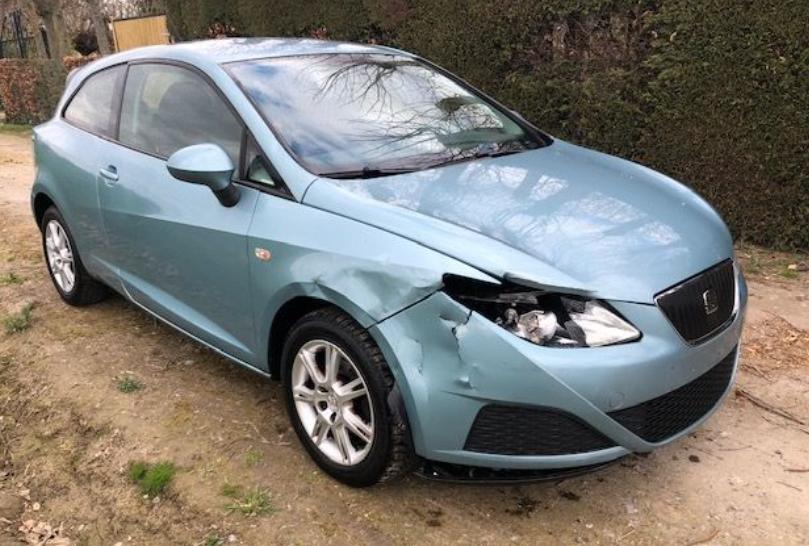Back-bumper: (368, 256, 746, 469)
Back-wheel: (41, 205, 109, 306)
Back-window: (63, 66, 119, 141)
Fender: (247, 193, 505, 373)
Front-door: (98, 57, 301, 367)
Front-wheel: (279, 308, 418, 486)
Front-window: (119, 65, 277, 186)
Grille: (654, 256, 735, 346)
Headlight: (439, 274, 641, 348)
Hood: (301, 140, 733, 304)
Mirror: (167, 142, 240, 208)
Quarter-panel: (33, 116, 127, 299)
Rocker-panel: (124, 286, 272, 380)
Roof: (124, 37, 406, 64)
Windshield: (218, 53, 554, 179)
